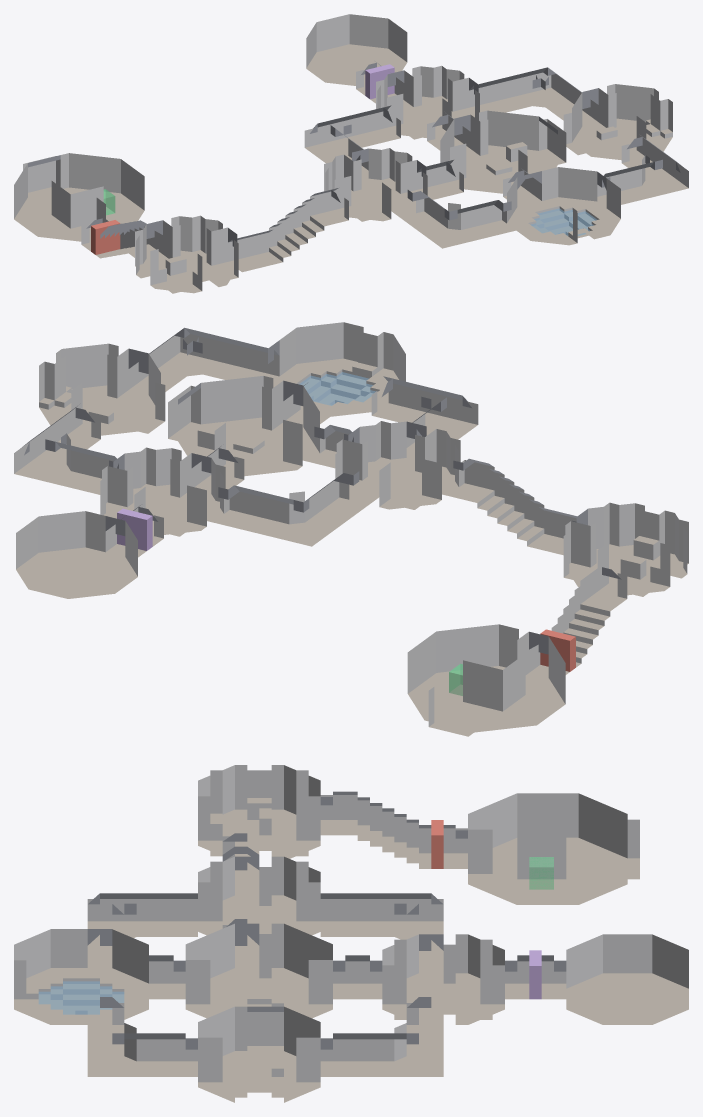
The model's file is pod_military_02.glb.
3 views of the same model, one above another, from view 1: azimuth 30°, elevation 25°; view 2: azimuth 150°, elevation 25°; view 3: azimuth 270°, elevation 25° (orthographic). The views are drawn at different scales.
Parts seen in each view (by area): view 1: room:5, room:7, room:6, room:2, room:4, room:1, corridor:3, corridor:0, room:3, corridor:2, room:0, corridor:1 (+19 smaller); view 2: room:5, room:7, room:6, room:4, corridor:7, room:2, room:3, room:1, corridor:1, room:0, corridor:3, corridor:0 (+18 smaller); view 3: room:5, room:7, room:6, room:2, room:4, room:0, room:1, corridor:0, corridor:7, corridor:4, corridor:1, room:3 (+20 smaller).
Part boxes in pixels (x1,y1,x2,y2): room:5: (14, 153, 144, 242); room:7: (306, 14, 407, 86); room:6: (440, 110, 557, 193); room:2: (507, 167, 620, 245); room:4: (135, 215, 238, 293); room:1: (572, 84, 672, 160); corridor:3: (228, 188, 348, 272); corridor:0: (469, 67, 598, 126); room:3: (324, 148, 427, 221); corridor:2: (400, 190, 515, 248); room:0: (376, 65, 479, 139); corridor:1: (597, 135, 688, 207); room:5: (407, 624, 565, 732); room:7: (16, 511, 137, 598); room:6: (178, 375, 319, 477); room:4: (563, 502, 688, 596); corridor:7: (213, 471, 368, 546); room:2: (268, 322, 405, 416); room:3: (335, 421, 460, 509); room:1: (39, 343, 160, 436); corridor:1: (128, 327, 279, 394); room:0: (100, 447, 225, 536); corridor:3: (448, 458, 576, 555); corridor:0: (14, 406, 124, 494); room:5: (468, 793, 627, 904); room:7: (566, 934, 688, 1024); room:6: (185, 923, 332, 1018); room:2: (14, 929, 148, 1024); room:4: (198, 765, 320, 858); room:0: (382, 934, 504, 1024); room:1: (198, 1006, 320, 1102); corridor:0: (320, 997, 443, 1076); corridor:7: (320, 893, 443, 973); corridor:4: (320, 791, 467, 868); corridor:1: (87, 997, 197, 1076); room:3: (198, 856, 320, 947).
Bounding box in the file's own units: 64 × 10 × 55.
